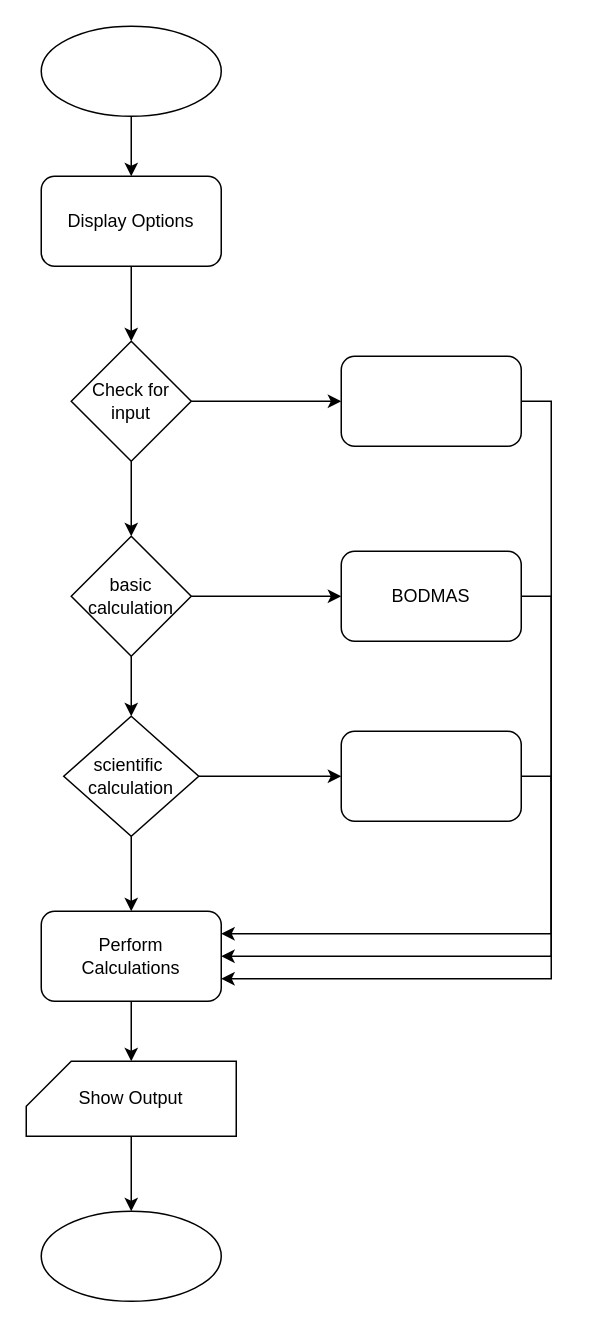
Image size: 590x1328. Some labels were removed from this diagram. Here are the shapes that lost their labels. From the top down, the centre of each, then its label:
the point at 130,70: Start
the point at 430,400: number or decimal
the point at 430,775: mathematics function (trignometric,profit, loss etc.)
the point at 130,1255: End
